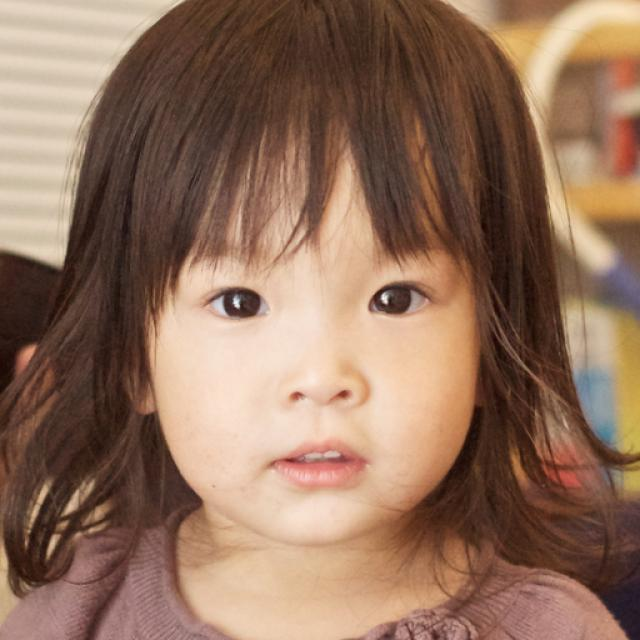neutral: (158, 125, 480, 543)
